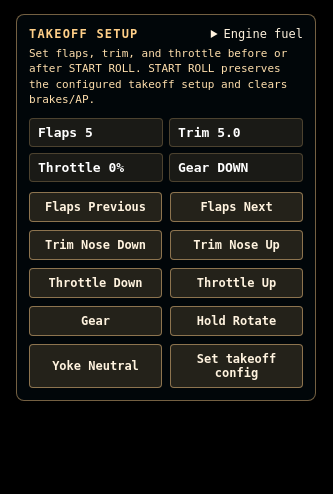
Test: TakeoffSetupPanel › shows visible feedback instead of silently ignoring gear-up before positive rate
Click the button "Gear". click: (96, 321)
box: [29, 306, 162, 336]
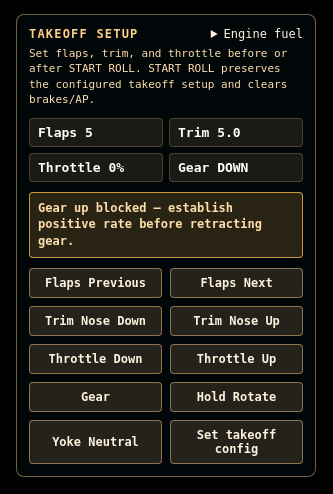
Expected: the text "Gear DOWN" is shown, [169, 153, 303, 182]
Expected: the message named "Control feedback" reads "Gear up blocked — establish positive rate before retracting gear.", [38, 201, 262, 248]
